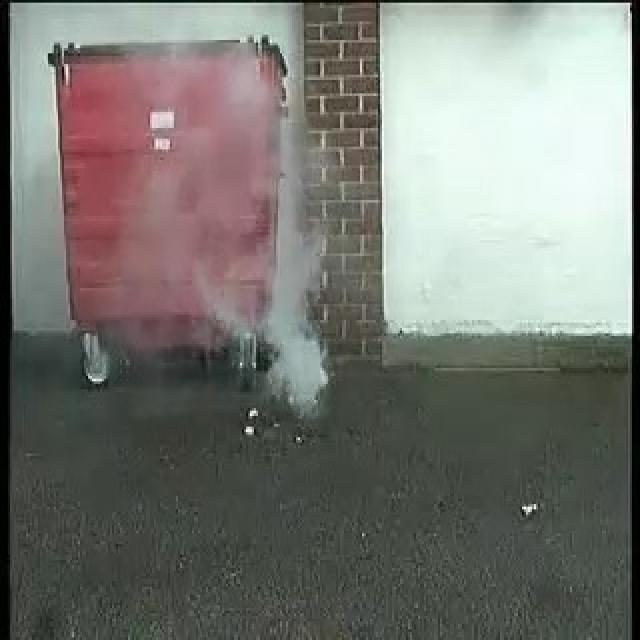smoke: (264, 127, 338, 416)
